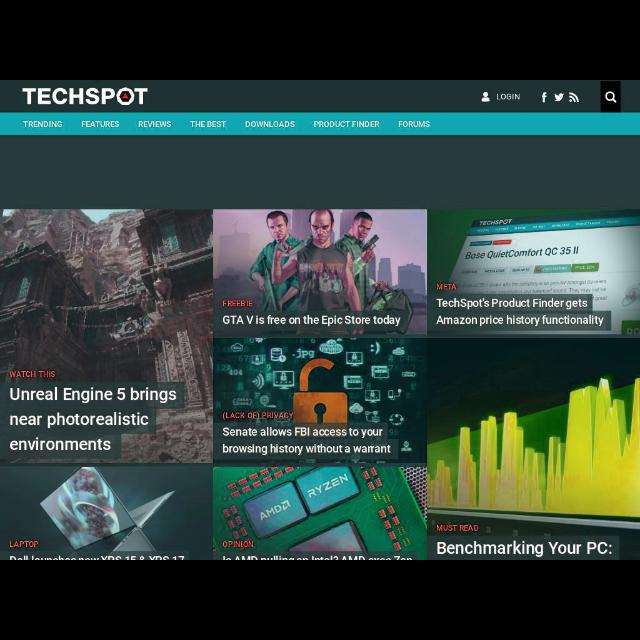backgroundimage: (1, 208, 213, 464), (427, 340, 639, 558), (214, 209, 428, 339), (427, 208, 639, 338), (214, 340, 426, 466), (0, 466, 214, 560), (214, 466, 426, 560)
button: (600, 80, 622, 112)
icon: (605, 90, 617, 104), (480, 91, 490, 103)
image: (22, 85, 152, 108), (541, 91, 579, 105)
multitab: (1, 113, 640, 135)
text: (9, 385, 179, 453), (222, 426, 392, 456), (435, 298, 605, 328), (435, 538, 613, 554), (222, 314, 402, 328), (221, 410, 295, 422), (220, 554, 404, 558), (9, 555, 184, 559), (314, 120, 381, 128), (245, 120, 295, 128), (9, 370, 56, 378), (435, 524, 479, 532), (22, 120, 64, 128), (80, 120, 120, 128), (222, 539, 254, 549), (190, 120, 227, 128), (137, 120, 173, 128), (7, 540, 39, 548), (398, 120, 429, 128), (224, 300, 252, 308), (436, 282, 456, 292), (496, 93, 520, 101)
textbutton: (481, 90, 521, 104)
toolbar: (1, 81, 637, 112)
